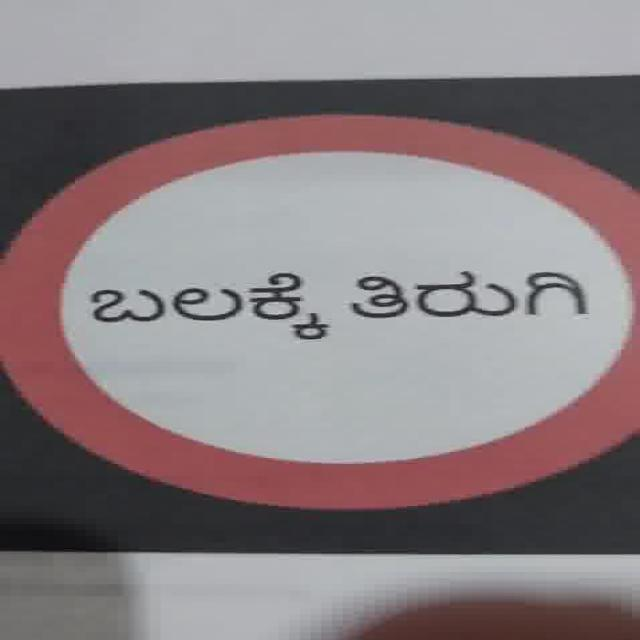kannadaright: (1, 109, 639, 511), (84, 267, 592, 340), (87, 270, 329, 340), (348, 269, 589, 319)
